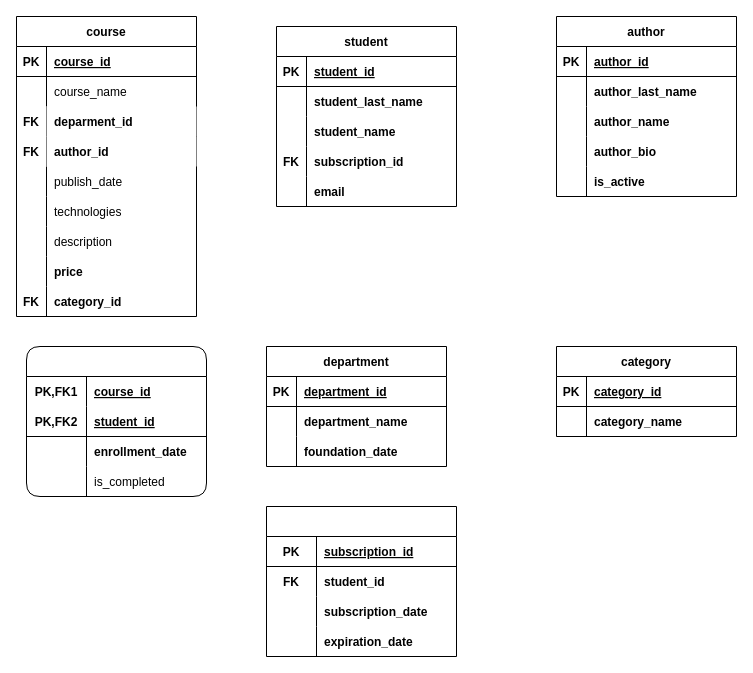
The diagram is 753 pixels wide and 673 high, and some of its shapes have lost their labels. Here are the shapes that lost their labels. From the top down, the box of each, then its label:
(26, 346, 206, 496): course_student
(266, 506, 456, 656): student_subscription
